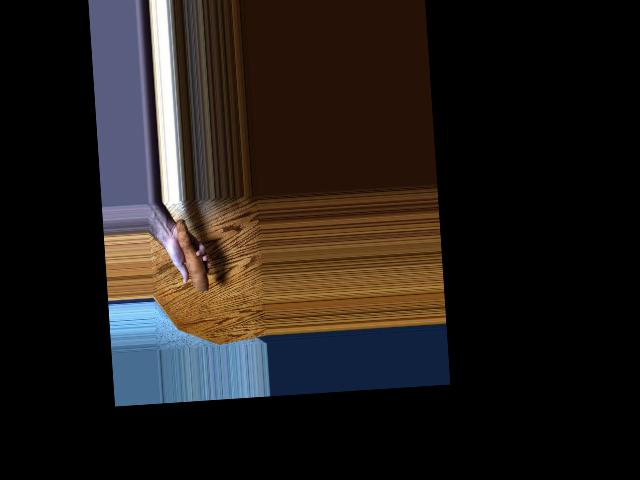sweet_potato: (175, 210, 211, 293)
